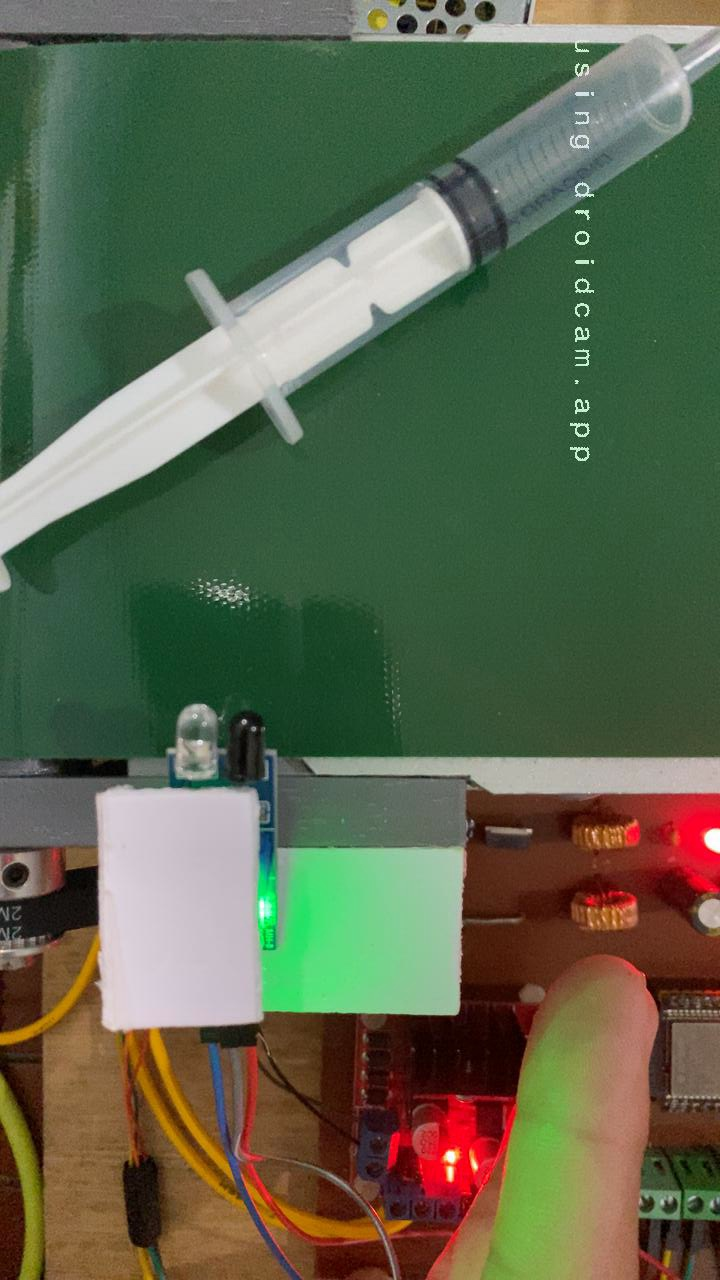syringe: (0, 42, 720, 601)
